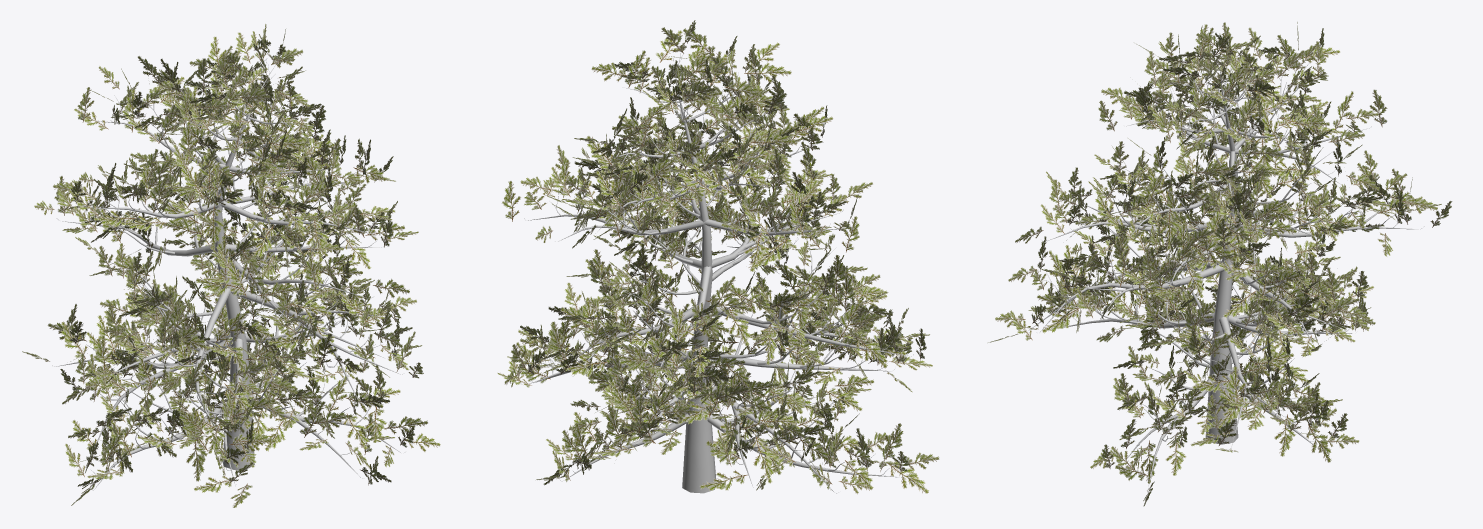
File: EasternHemlock_1.fbx
The picture shows the model from 3 angles, left to right: view 1: azimuth 30°, elevation 25°; view 2: azimuth 150°, elevation 25°; view 3: azimuth 270°, elevation 25°; orthographic projection. The views are drawn at different scales.
Parts seen in each view (by area): view 1: leaves; view 2: leaves; view 3: leaves.
Boxes of the visible parts, x1,y1,x2,y2 form: leaves: (22, 24, 440, 507); leaves: (497, 20, 939, 494); leaves: (988, 22, 1452, 506).
Size of the model in its own units: 951 by 859 by 936.
